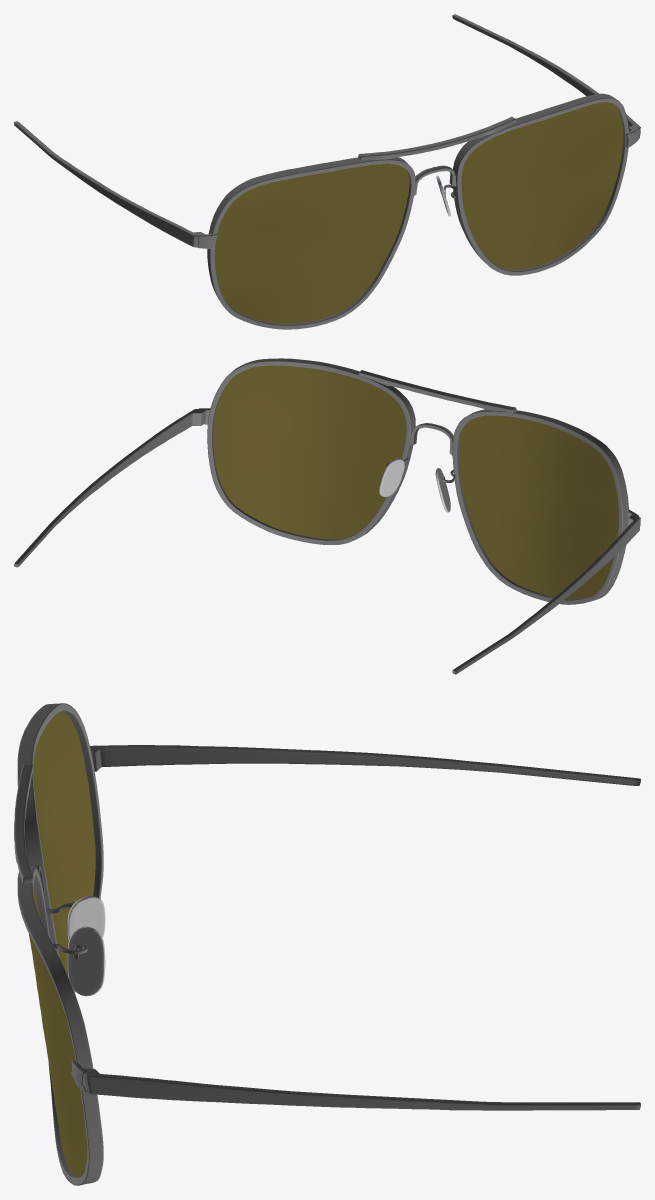
Rendered from chromanceOBJ.obj.
The picture shows the model from 3 angles, top to bottom: view 1: azimuth 30°, elevation 25°; view 2: azimuth 150°, elevation 25°; view 3: azimuth 270°, elevation 25°; orthographic projection. The views are drawn at different scales.
Parts seen in each view (by area): view 1: chrmOBJ; view 2: chrmOBJ; view 3: chrmOBJ.
Boxes of the visible parts, x1,y1,x2,y2 form: chrmOBJ: (14,14,640,329); chrmOBJ: (14,358,640,674); chrmOBJ: (14,703,640,1185).
Bounding box in the file's own units: 0.1618 × 0.0563 × 0.1238.
1 material, 1 textured.
